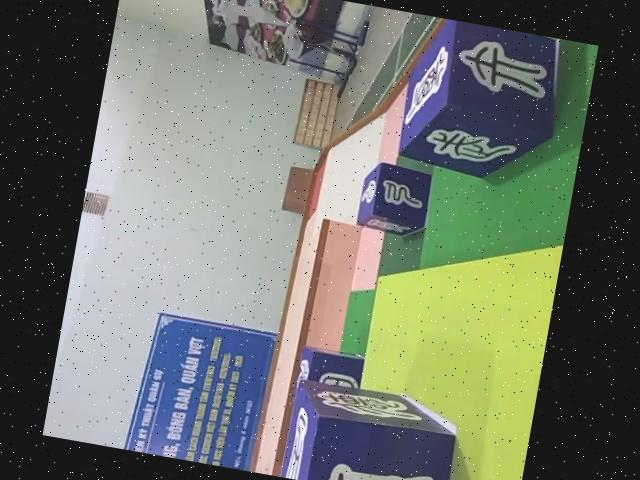R2 Fake Blue: (392, 14, 571, 186), (273, 374, 465, 480), (356, 159, 437, 240)
